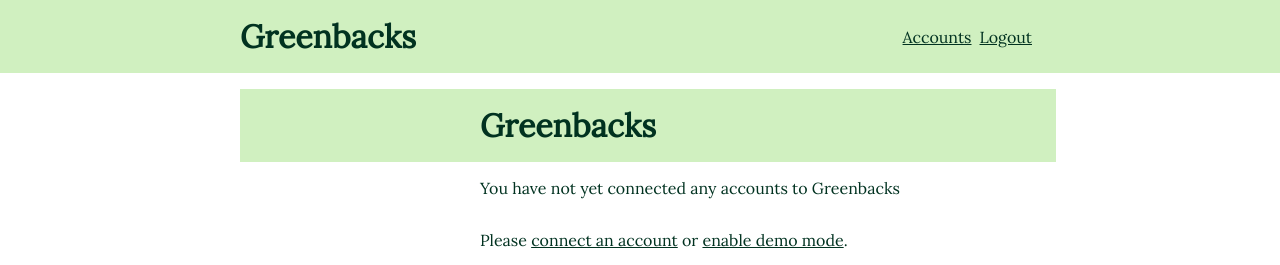
Test: reauthentication required error link redirects to acounts page
What coordinates should you click on to do the following:
click the link "Accounts"
I would click on:
 (937, 36)
Its box is [902,26,972,46].
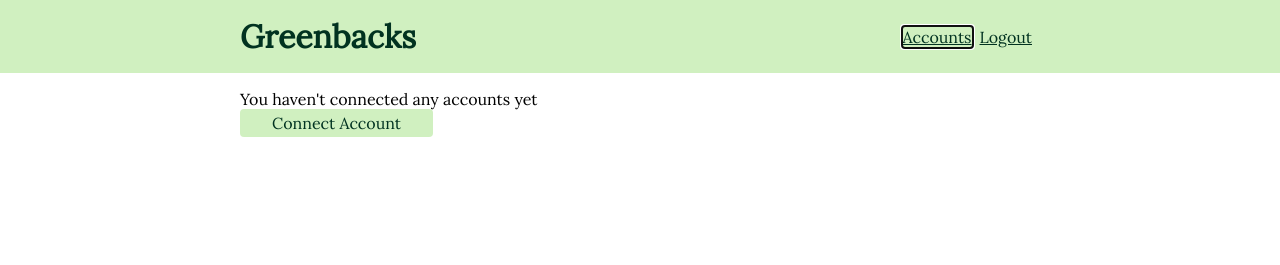
Now the element with test id "accounts-page" is shown, box [240,89,538,137]
